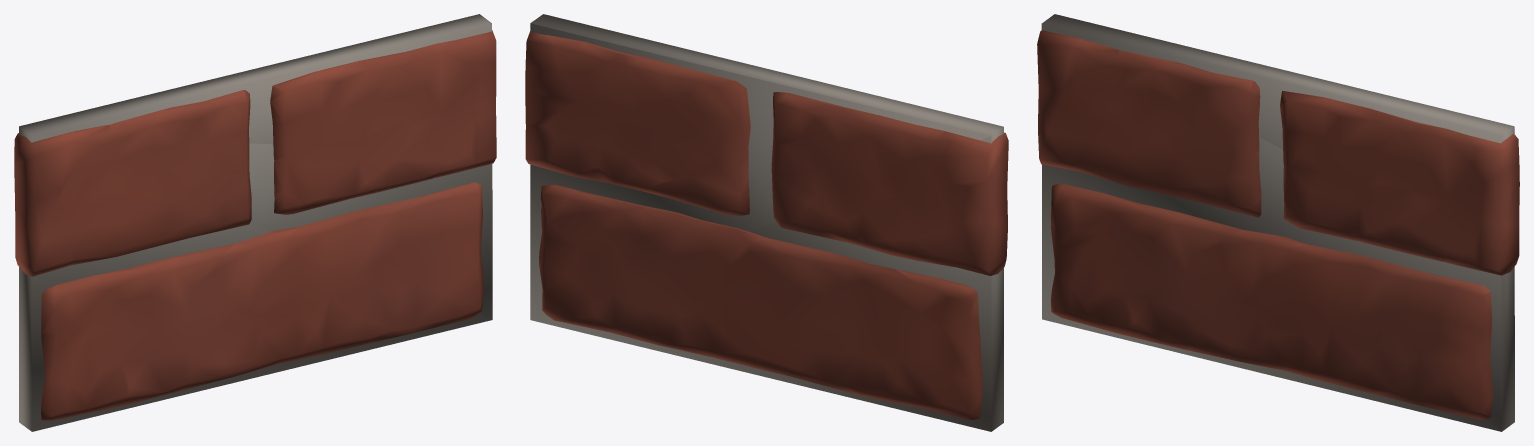
Rendered from ember_brick_wall_lod2.glb.
3 renders of one model, left to right at view 1: azimuth 30°, elevation 25°; view 2: azimuth 150°, elevation 25°; view 3: azimuth 330°, elevation 25°, orthographic.
Parts seen in each view (by area): view 1: ember_brick_wall.001; view 2: ember_brick_wall.001; view 3: ember_brick_wall.001.
Boxes of the visible parts, left/top/right/bottom form: ember_brick_wall.001: left=14, top=14, right=496, bottom=431; ember_brick_wall.001: left=525, top=14, right=1008, bottom=431; ember_brick_wall.001: left=1037, top=14, right=1519, bottom=431.
Bounding box in the file's own units: 65.01 × 39.92 × 5.59.
